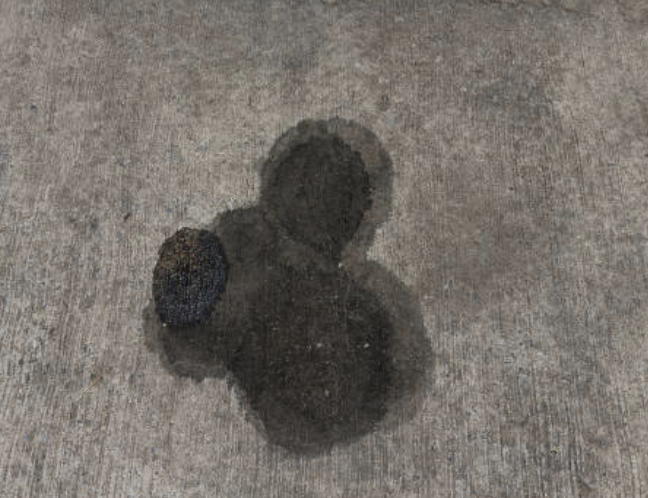oil: (72, 58, 218, 230)
